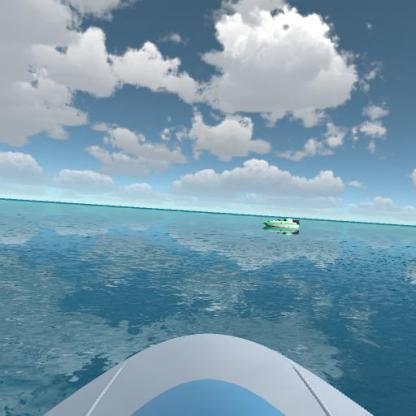usv0: (258, 212, 305, 236)
